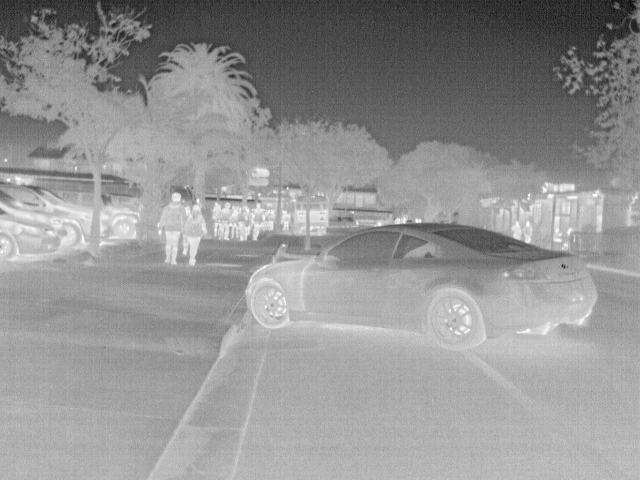car: (244, 222, 601, 352), (2, 183, 94, 248), (3, 209, 60, 263), (105, 205, 141, 241)
person: (157, 192, 187, 266), (180, 200, 207, 267), (249, 202, 268, 240), (218, 200, 235, 240), (210, 199, 224, 236), (238, 203, 251, 241), (561, 227, 575, 252), (522, 220, 534, 246), (510, 219, 523, 242), (279, 209, 291, 230), (551, 227, 565, 243)
